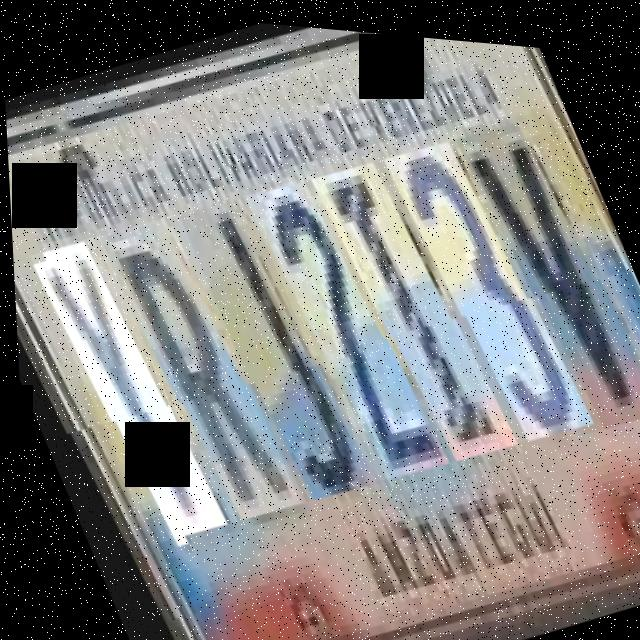2: (243, 162, 439, 484)
3: (381, 118, 583, 443)
I: (309, 142, 508, 465)
J: (168, 183, 366, 506)
R: (96, 204, 298, 529)
V: (454, 98, 640, 431)
Y: (27, 228, 218, 549)
